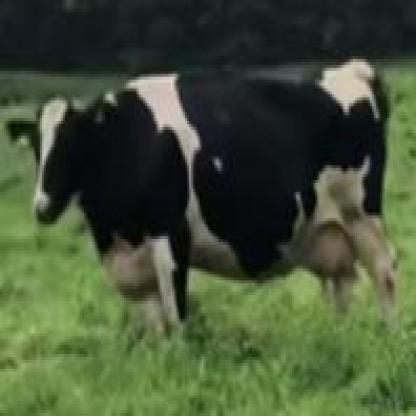cow: (5, 59, 398, 342)
